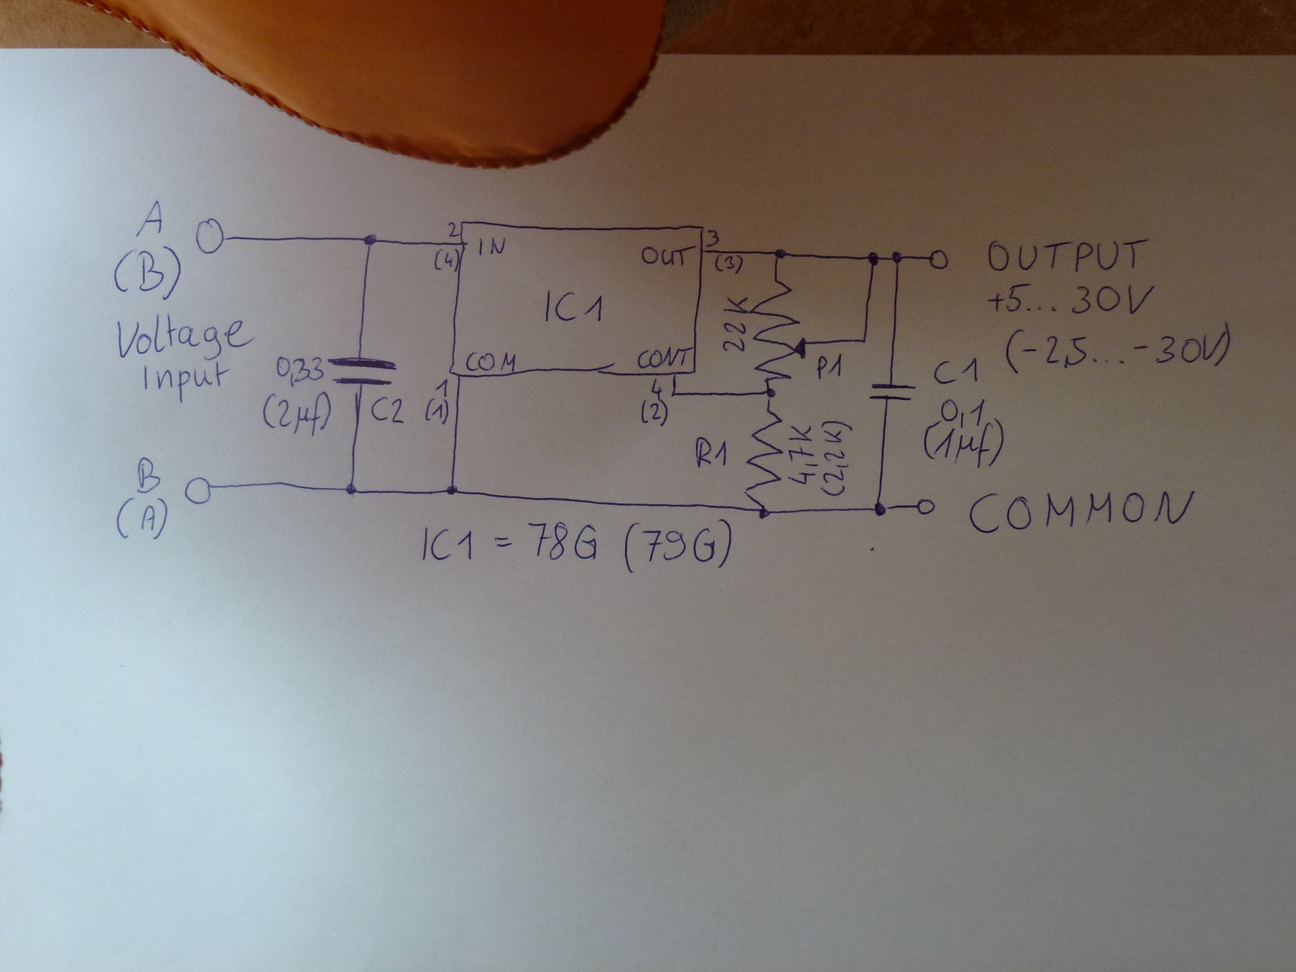capacitor.unpolarized: (323, 354, 401, 387), (866, 379, 918, 405)
integrated_circuit: (447, 217, 705, 379)
junction: (443, 480, 461, 499), (870, 498, 889, 518), (771, 244, 791, 261), (360, 231, 379, 248), (342, 481, 360, 498), (864, 248, 881, 268), (749, 505, 772, 519), (888, 248, 904, 264), (760, 385, 778, 398), (668, 388, 681, 401), (858, 335, 869, 346)
resistor: (743, 405, 784, 503)
resistor.adjustable: (749, 275, 809, 382)
terminal: (190, 216, 229, 256), (180, 472, 216, 506), (924, 245, 951, 271), (914, 495, 938, 516)
text: (414, 515, 740, 575), (1004, 320, 1239, 377), (965, 489, 1195, 536), (984, 226, 1150, 272), (115, 309, 257, 361), (985, 280, 1156, 314), (923, 415, 1006, 470), (140, 358, 231, 404), (111, 243, 183, 301), (261, 391, 331, 438), (819, 416, 855, 499), (539, 286, 604, 326), (115, 493, 168, 540), (786, 422, 819, 487), (721, 300, 753, 357), (272, 353, 325, 387), (938, 395, 987, 431), (636, 342, 693, 372), (640, 242, 699, 269), (130, 451, 163, 495), (933, 354, 981, 385), (691, 434, 731, 471), (370, 393, 411, 425), (135, 197, 165, 237), (464, 349, 517, 372), (813, 350, 847, 382), (639, 397, 670, 427), (473, 233, 507, 257), (423, 396, 450, 425), (434, 246, 461, 273), (713, 253, 744, 274), (704, 227, 722, 249), (649, 377, 666, 399), (434, 377, 449, 399), (445, 218, 461, 238)
